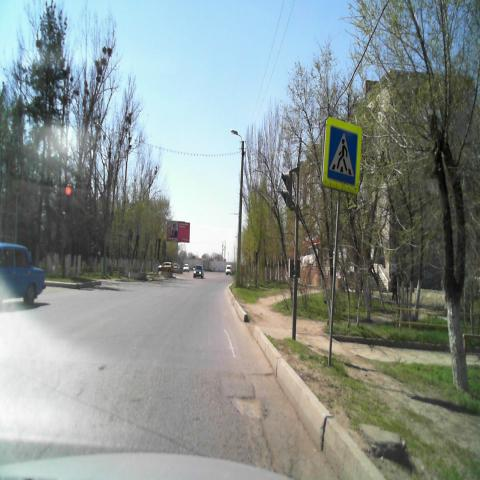5_19_1: (319, 114, 361, 196)
